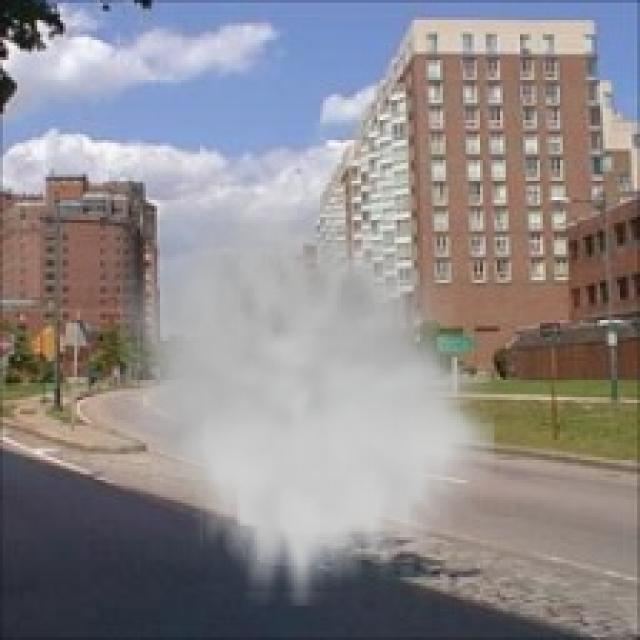Smoke: (117, 183, 494, 606)
